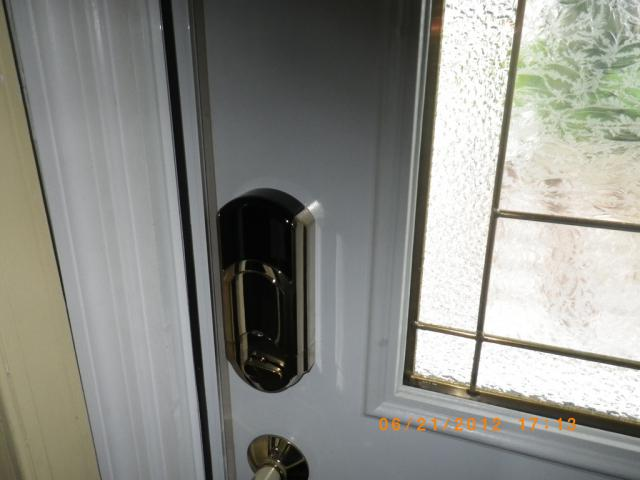Door-handle: (248, 433, 310, 480)
